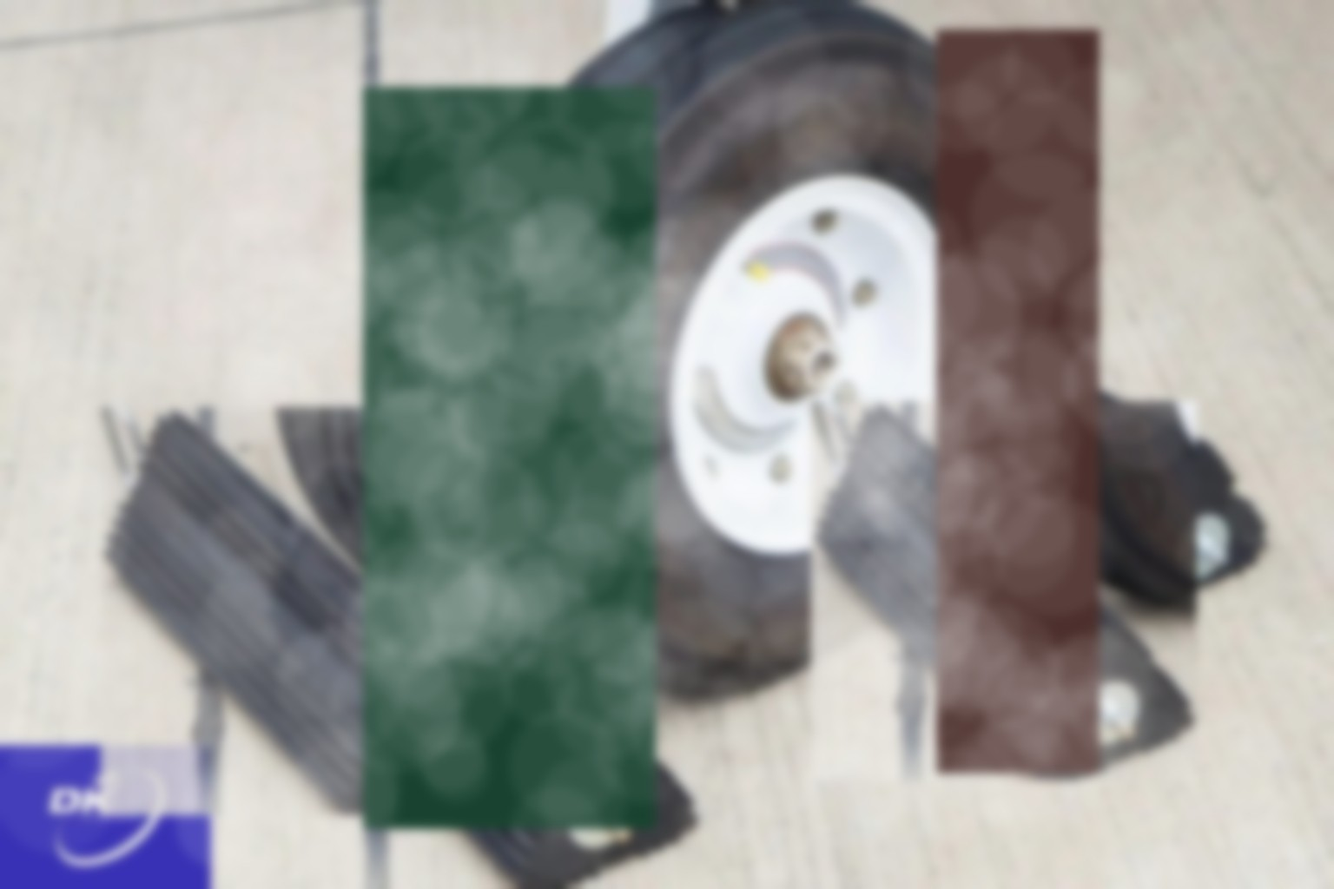chock: (263, 458, 701, 889), (101, 407, 515, 815), (811, 401, 1197, 780), (854, 340, 1270, 615)
wheel: (438, 2, 1038, 701)
